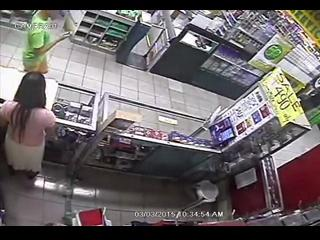Normal: (0, 72, 57, 183)
